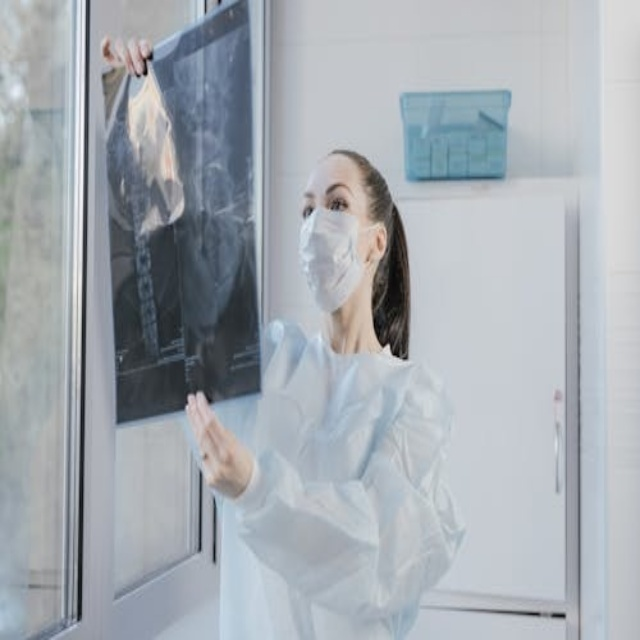Mascara: (299, 204, 376, 313)
Sin_gafas: (300, 183, 357, 219)
Sin_guantes: (184, 388, 251, 500)
